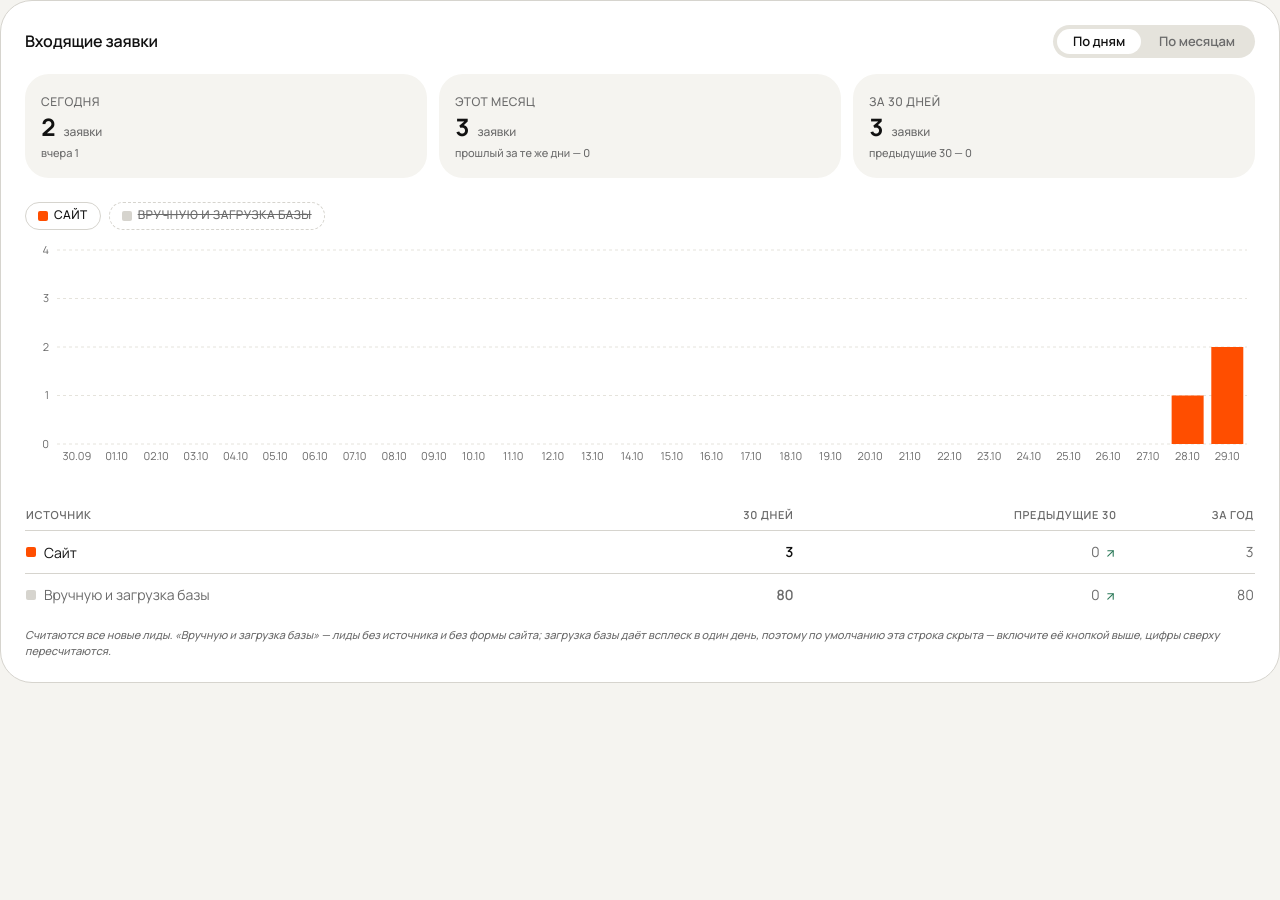
Test: InflowCard › switches the table to months
Click the tab "По месяцам" at x=1197, y=42, box [1143,29,1251,54]
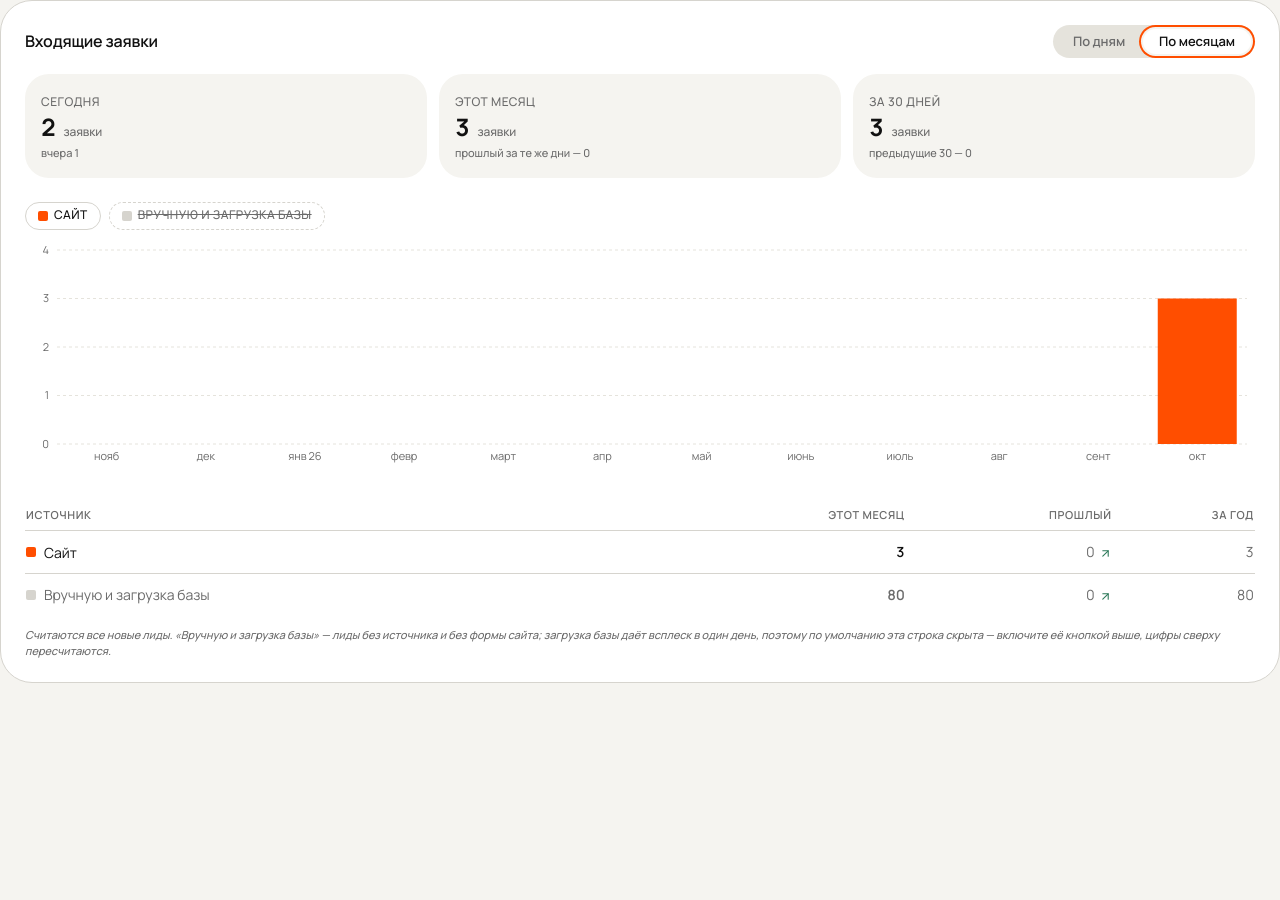
Now the column heading "Этот месяц" is shown, box [655,506,906,531]
Now the column heading "Прошлый" is shown, box [906,506,1113,531]
